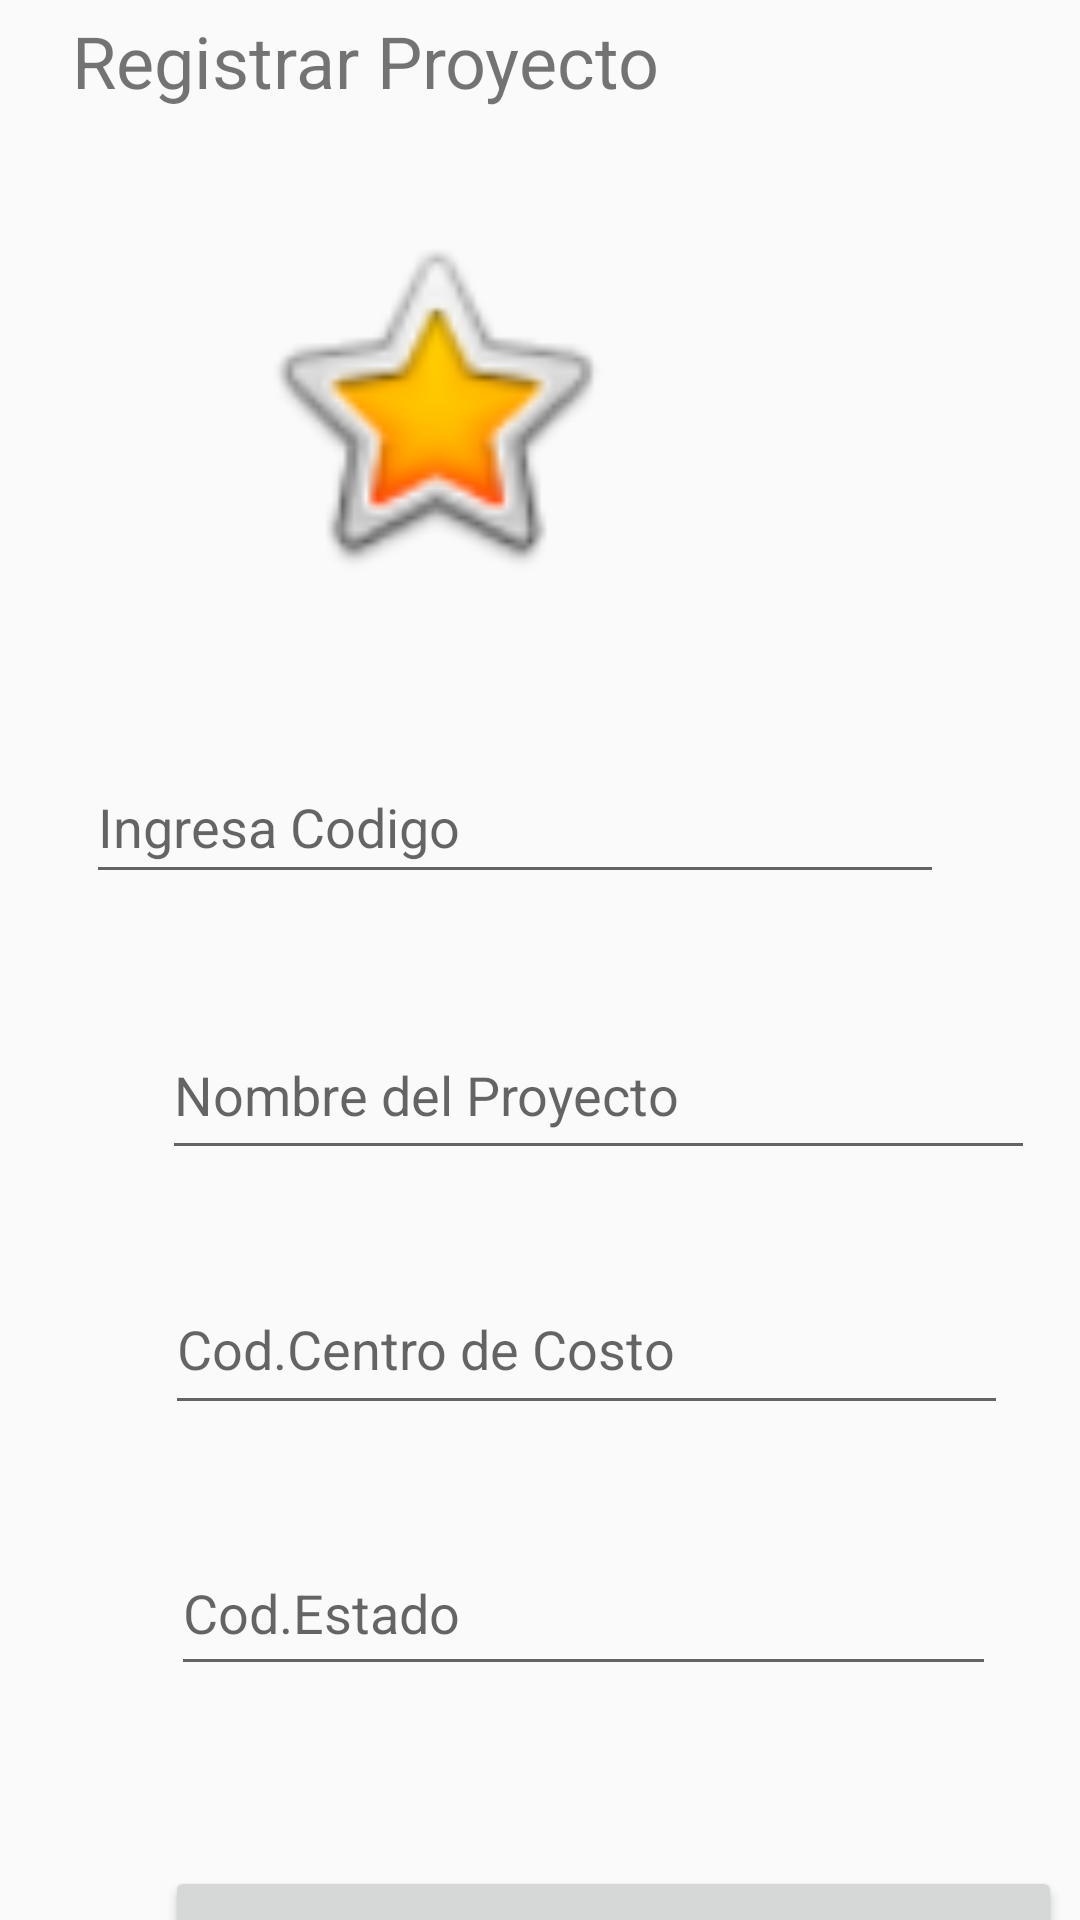

Where icons sit on this 1080px×1920px app screen, as (x1, y1, x2, y2):
star on: (280, 254, 593, 559)
